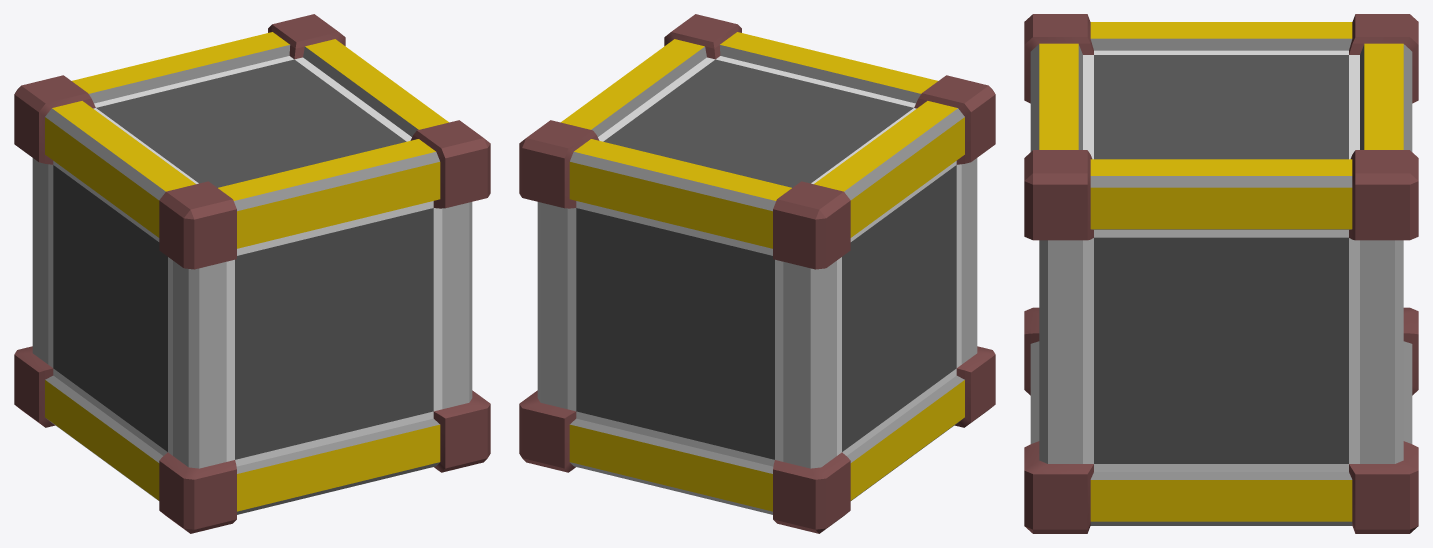
The model's file is Crate.fbx.
3 renders of one model, left to right at view 1: azimuth 30°, elevation 25°; view 2: azimuth 150°, elevation 25°; view 3: azimuth 270°, elevation 25°, orthographic. The views are drawn at different scales.
Parts seen in each view (by area): view 1: Crate; view 2: Crate; view 3: Crate.
Boxes of the visible parts, x1,y1,x2,y2 form: Crate: [14, 14, 490, 533]; Crate: [519, 14, 995, 533]; Crate: [1024, 14, 1418, 533].
Size of the model in its own units: 3.93 by 3.97 by 3.93.
